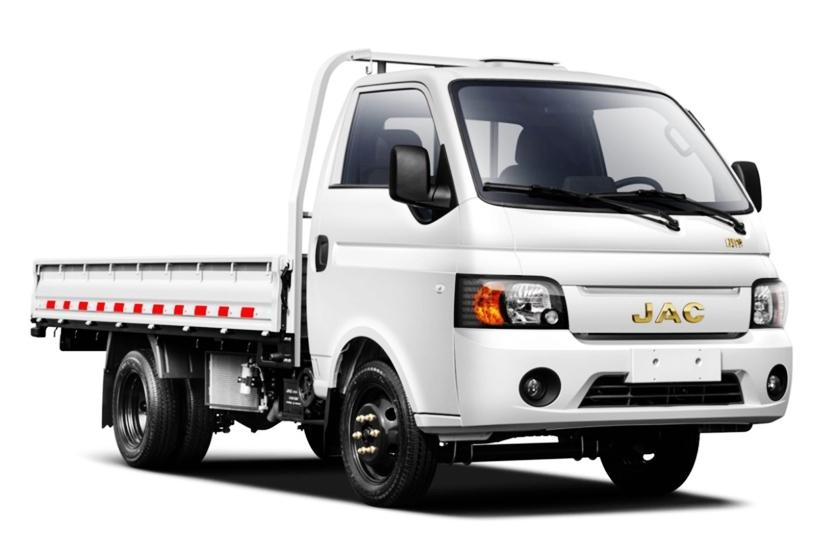truck: (28, 30, 798, 509)
